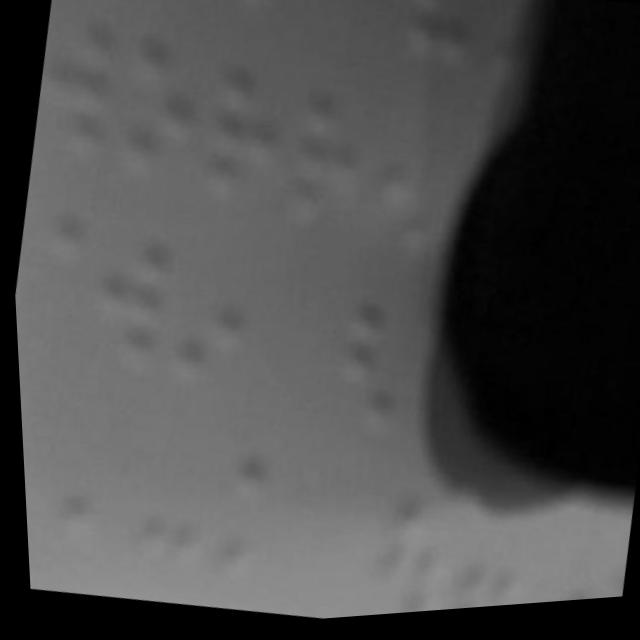braiile: (108, 40, 212, 203), (193, 58, 295, 222), (274, 77, 378, 236), (26, 12, 132, 164), (49, 405, 147, 556), (160, 248, 257, 396), (206, 452, 307, 594), (81, 234, 175, 378), (326, 299, 416, 447), (129, 445, 221, 578)
